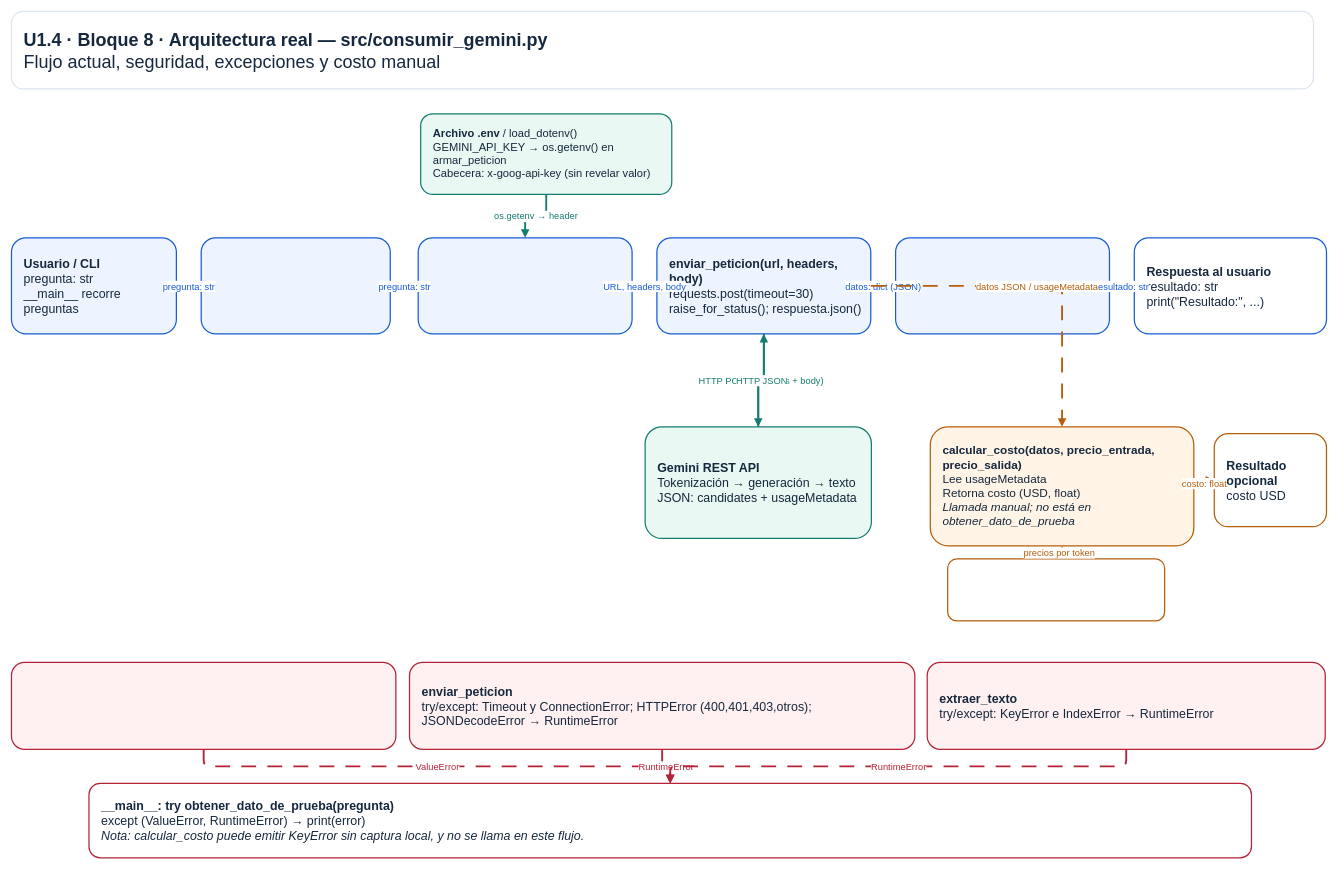
Some shapes in this 1337 by 869 pixel diagram are drawn without their labels. Each missing label, with the centre of its shape:
"armar_peticion ValueError para pregunta vacía. Sin except local." goes at (203,706).
"armar_peticion(pregunta) Valida pregunta retorna URL, headers, body" goes at (524,285).
"extraer_texto(datos) candidates[0]...text Devuelve string" goes at (1002,285).
"obtener_dato_de_prueba(pregunta) Orquesta las 3 funciones" goes at (295,285).
"Tarifas precio_entrada y precio_salida parámetros externos" goes at (1056,589).
